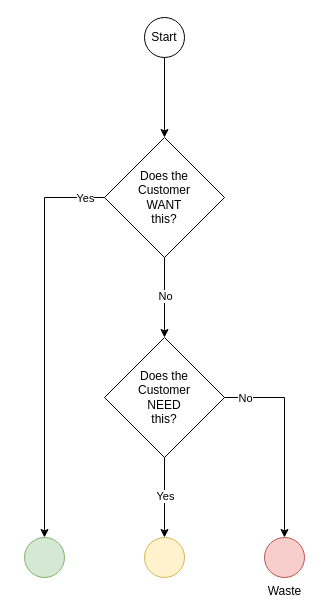
Image size: 322x616. Some labels were removed from this diagram. Each missing label, with the centre of its shape:
Non-Value-Add: [164,557]
Value-Add: [44,557]
